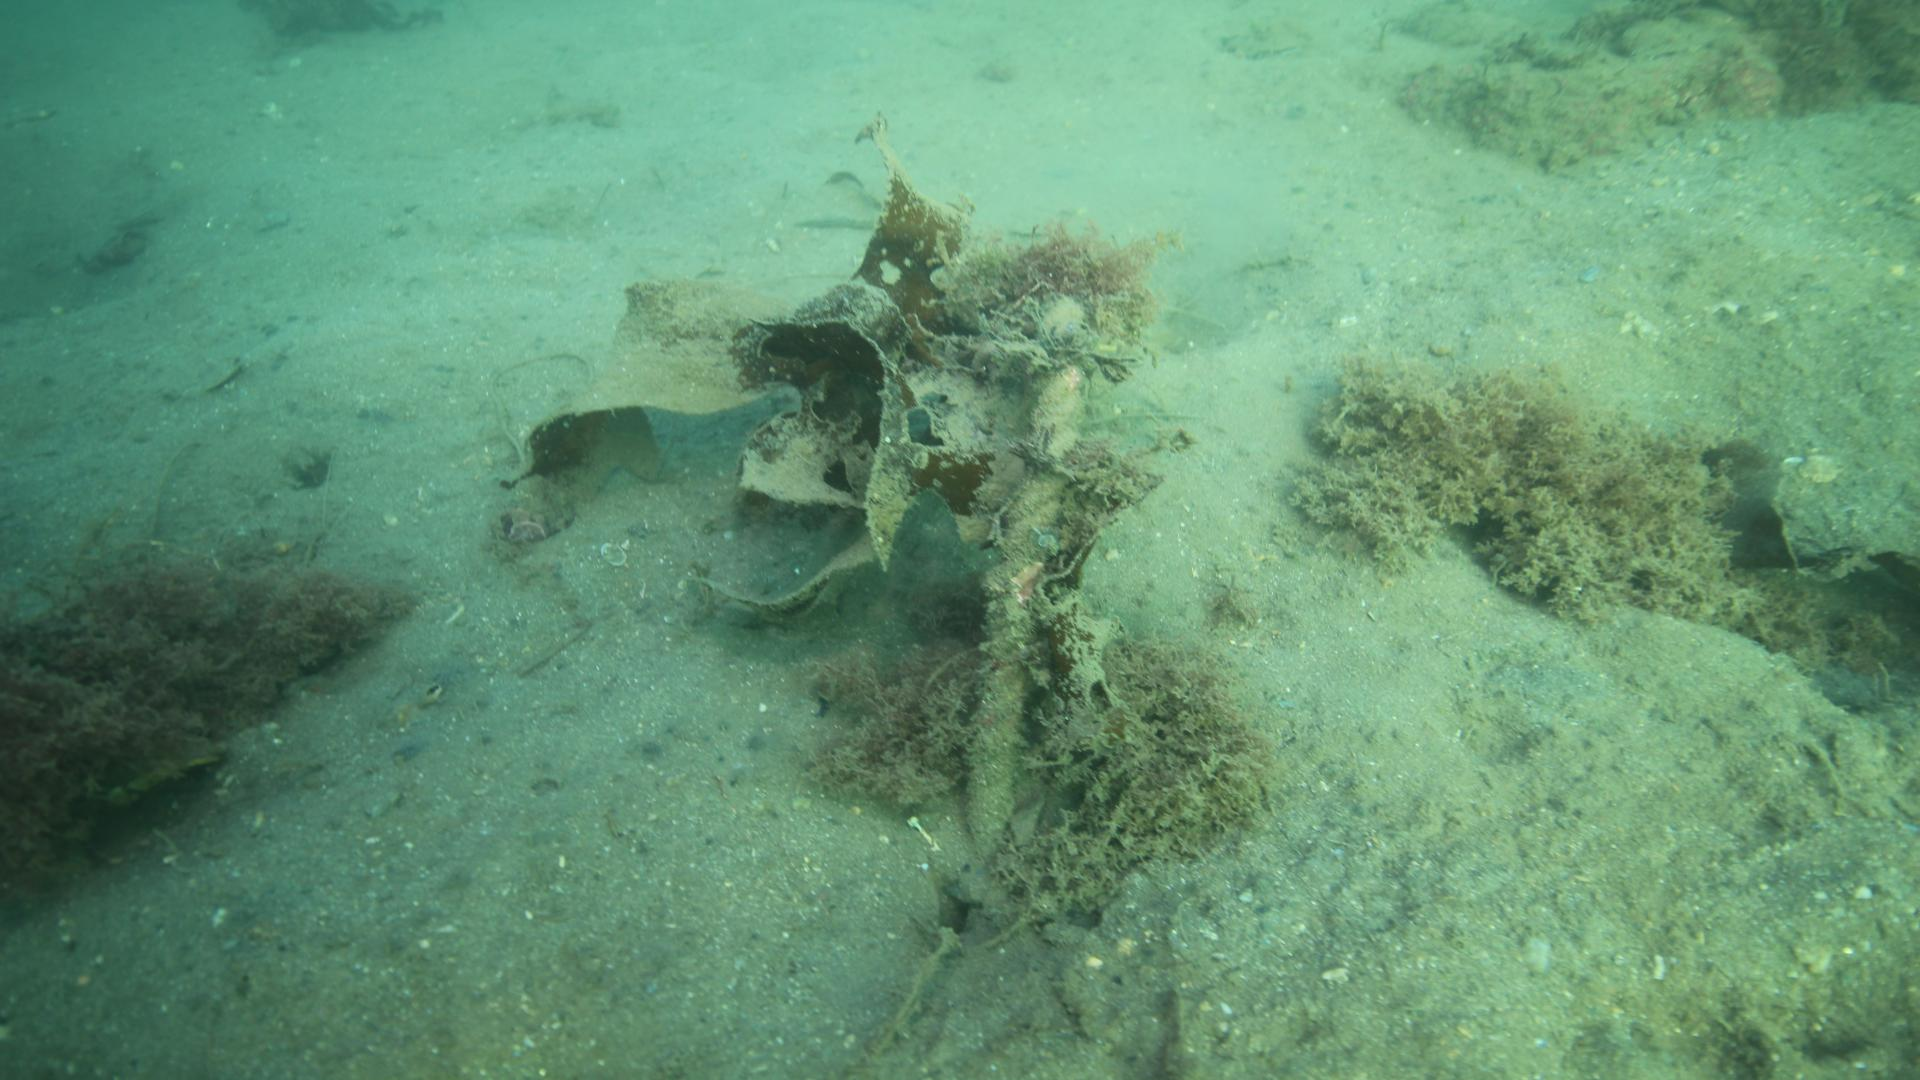rope: (957, 281, 1089, 858)
